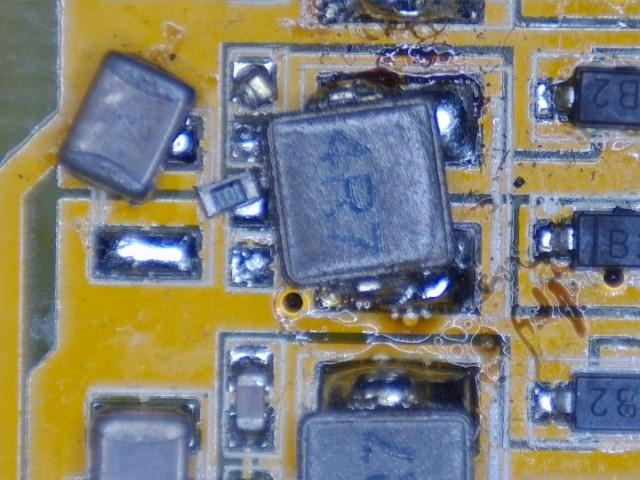Incorrect_installation: (265, 72, 484, 314), (56, 49, 202, 205), (194, 169, 270, 226)
